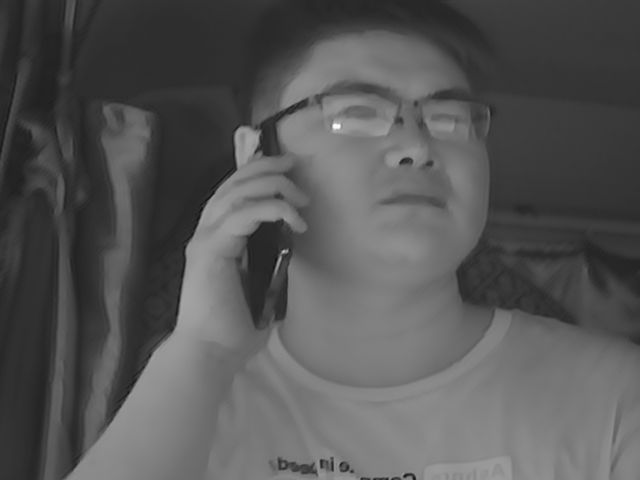hand: (177, 160, 306, 339)
